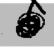not correct: (15, 0, 48, 39)
